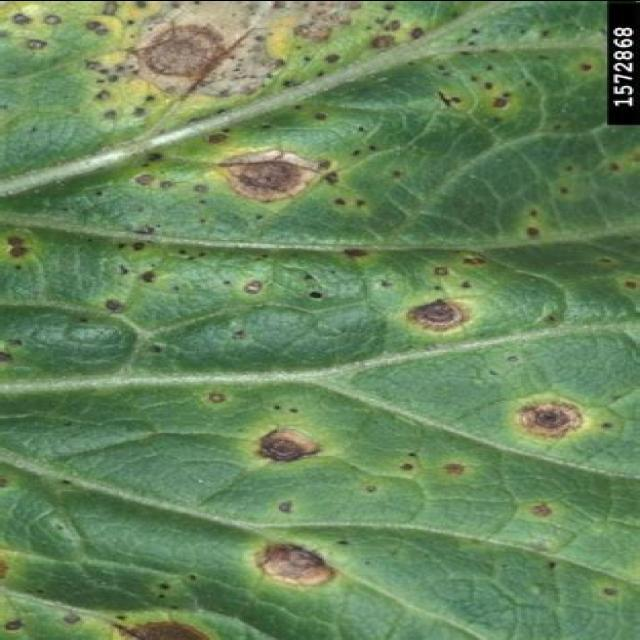Baby: (110, 11, 596, 590)
